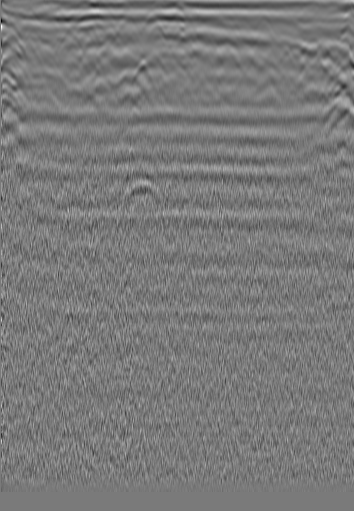가스: (120, 179, 165, 214)
상수: (305, 19, 325, 39)
오수: (24, 24, 44, 44)
우수: (174, 35, 194, 55)
